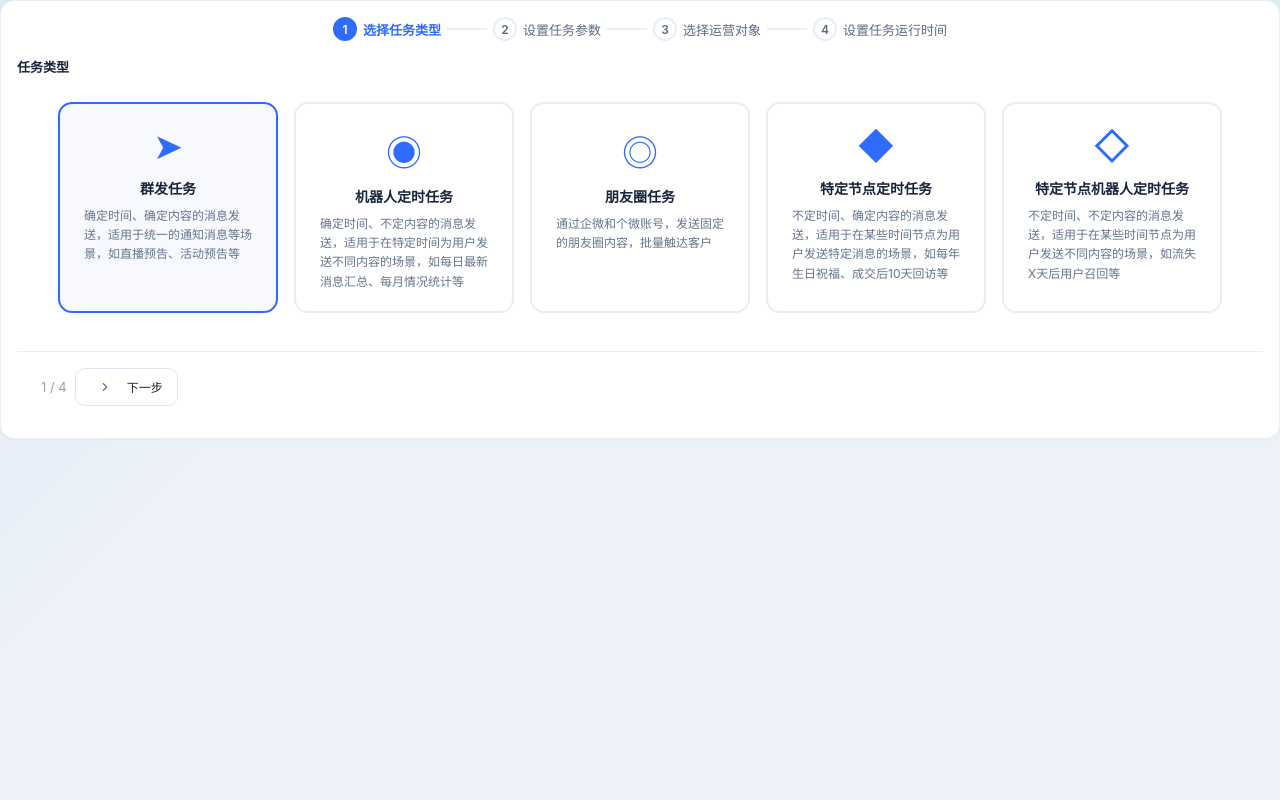
it: OperationTaskCreatePage — GroupTab 修复验证 › Step 3: GroupTab → canNext → 下一步按钮可用 › 勾选分组后进入 Step 4，可看到运行时间表单
// Navigate Step 1→2
Click the button "下一步" at [126, 387], box [75, 368, 178, 406]
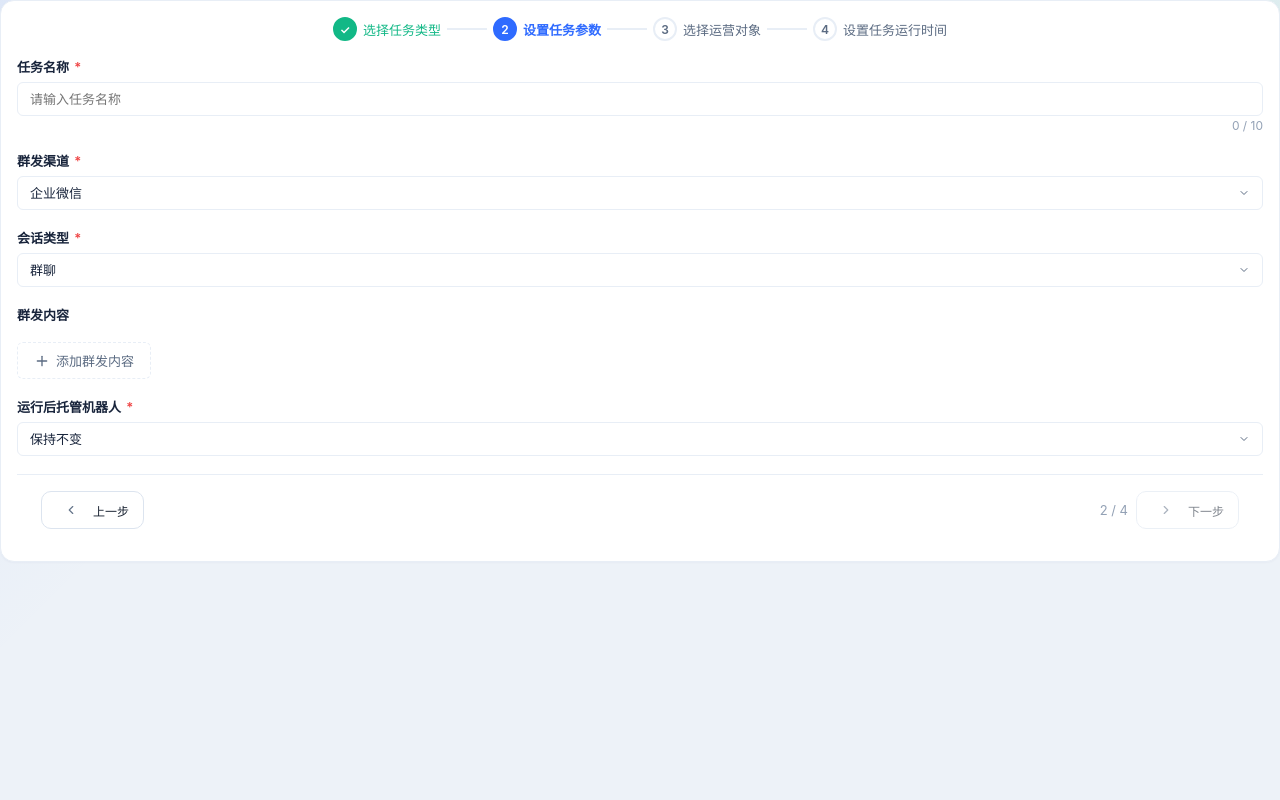
Type "测试运营" into the field with placeholder "请输入任务名称" at [640, 99], box [17, 82, 1263, 116]
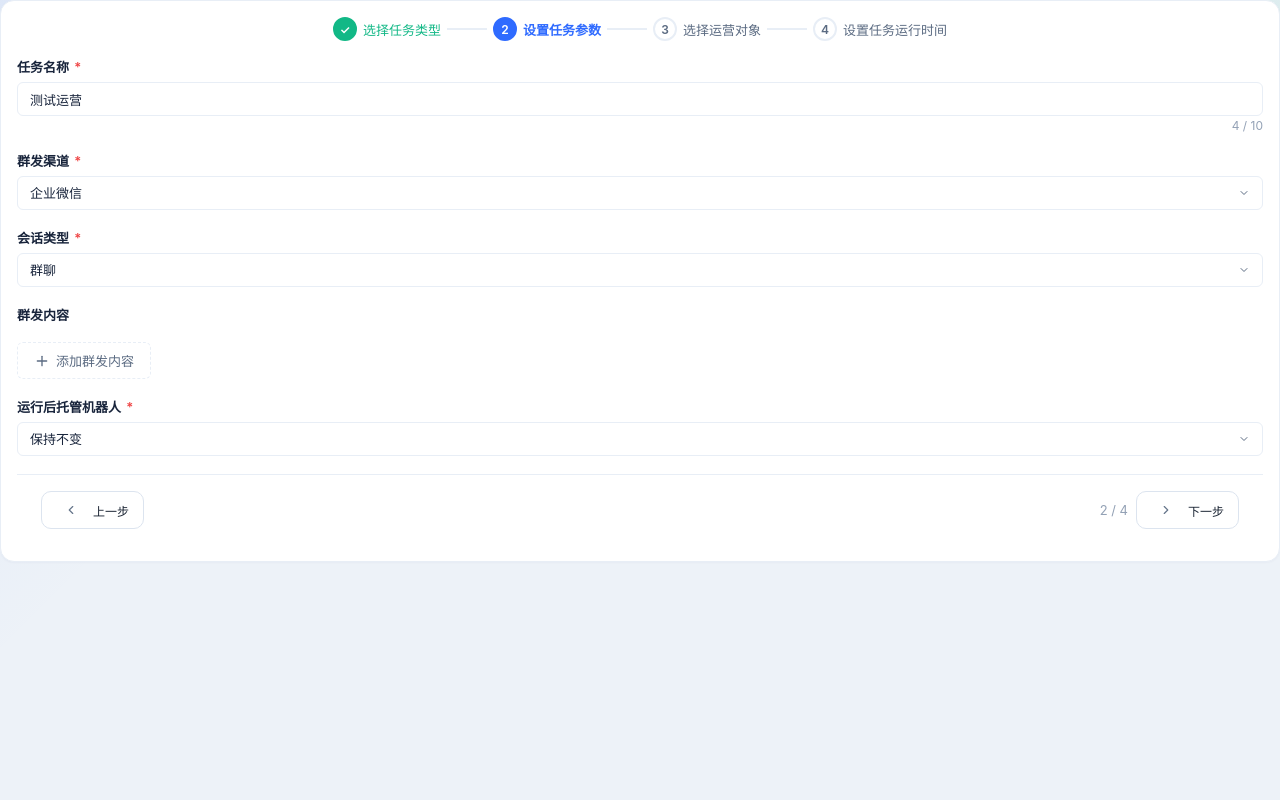
// Navigate Step 2→3
Click the button "下一步" at [1188, 510], box [1136, 491, 1239, 529]
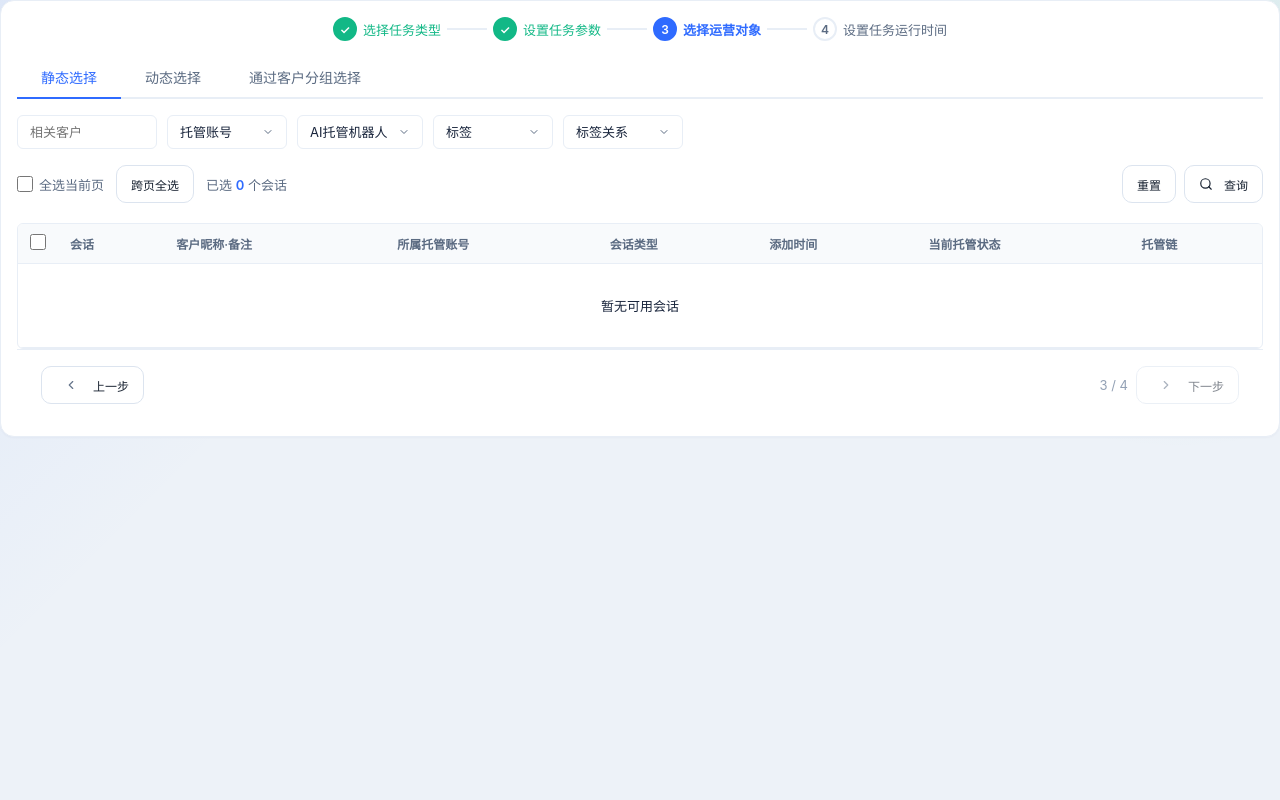
Expected: the button "静态选择" is shown, [17, 57, 121, 99]
// Switch to GroupTab, check a group
Click the button "通过客户分组选择" at [305, 78], box [225, 57, 385, 99]
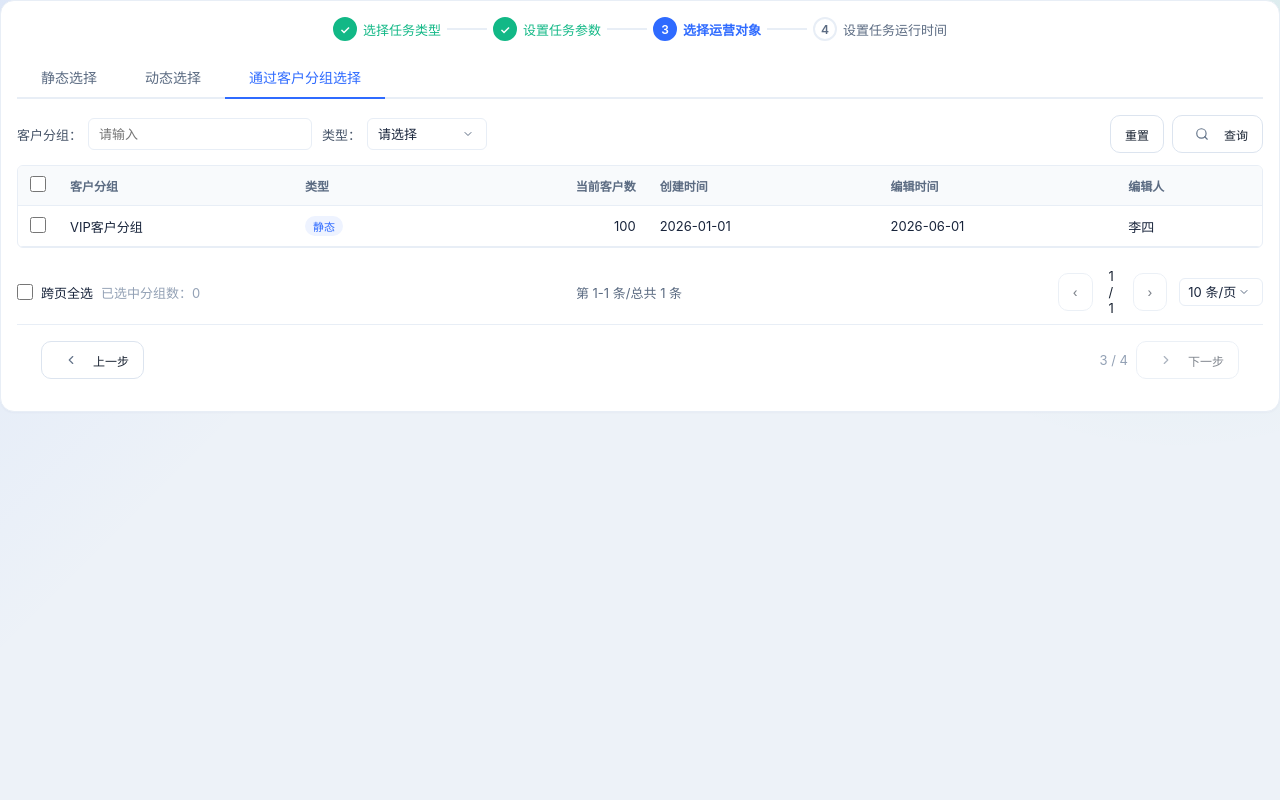
Expected: the text "VIP客户分组" is shown, [58, 206, 293, 246]
Click the checkbox next to "VIP客户分组" at [38, 224], box [30, 216, 46, 232]
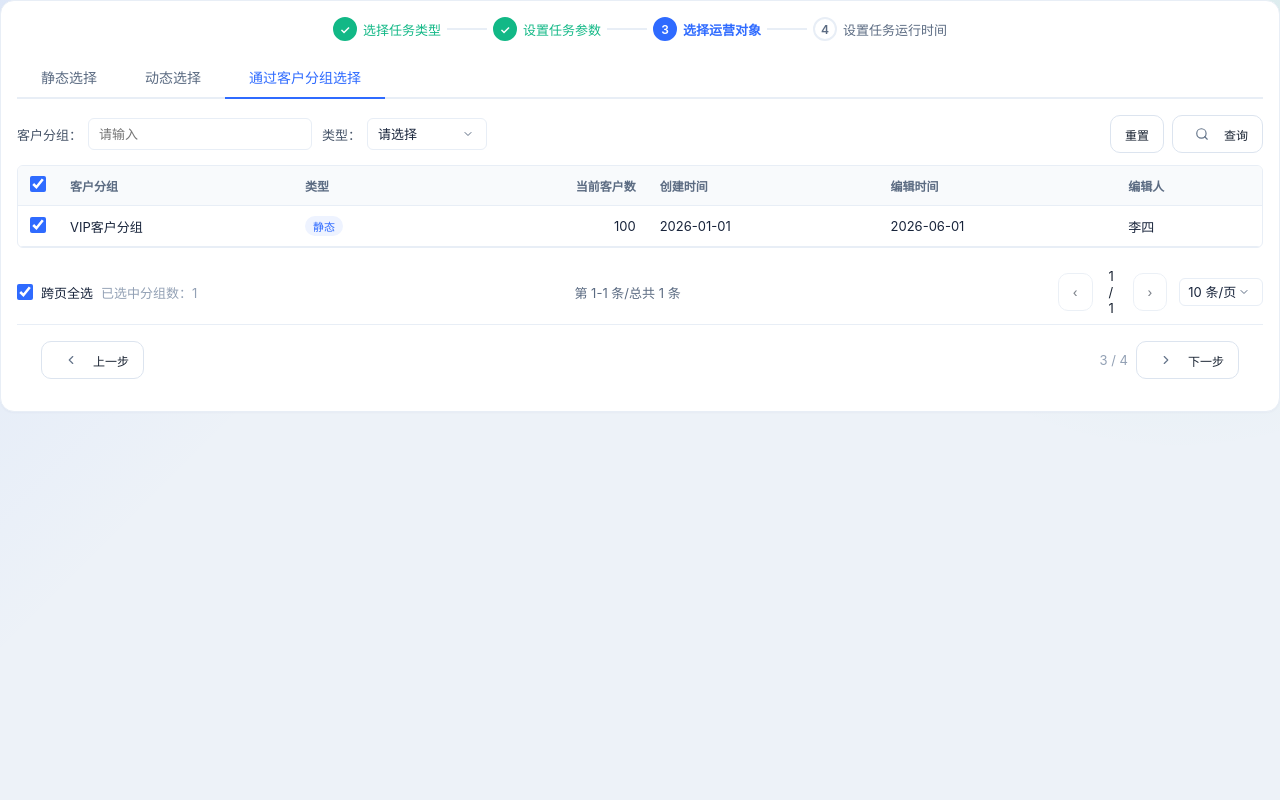
Expected: the button "下一步" is enabled
Click the button "下一步" at [1188, 360], box [1136, 341, 1239, 379]
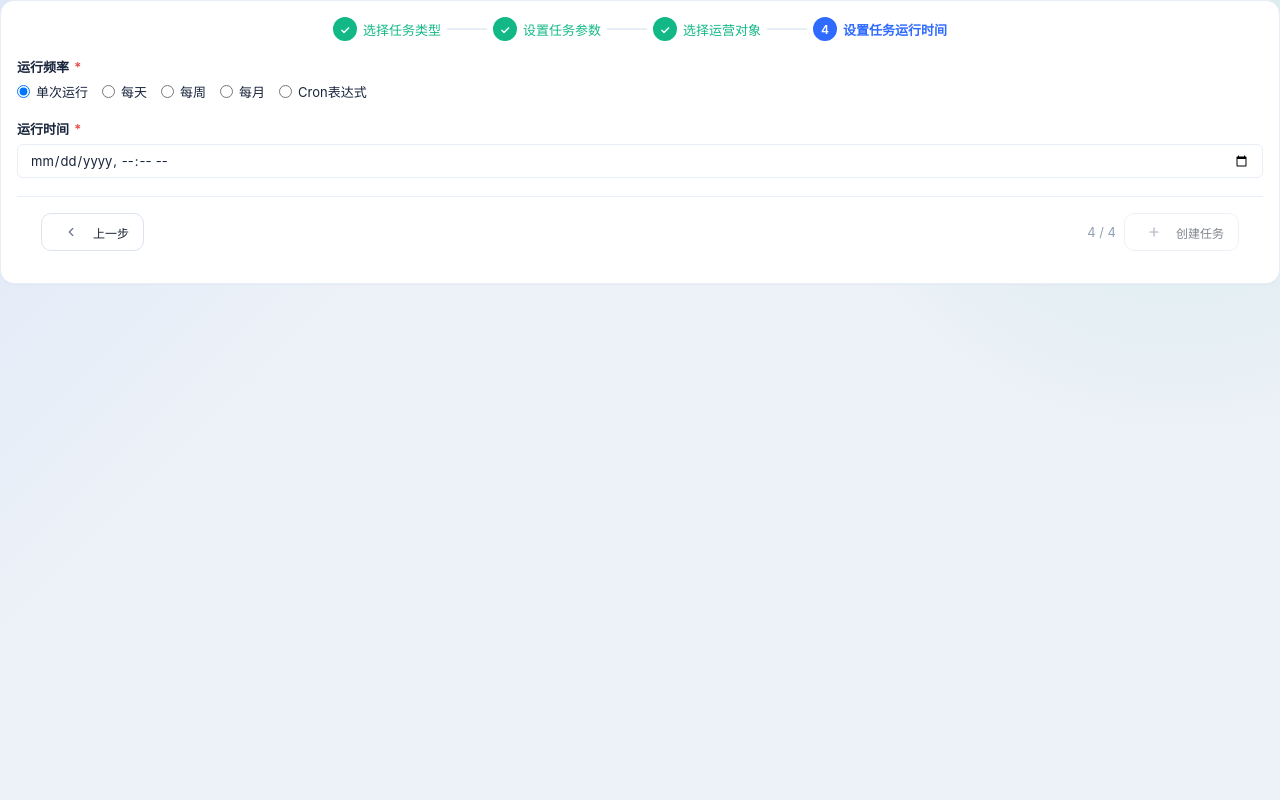
Expected: the button "创建任务" is shown, [1176, 224, 1224, 240]
